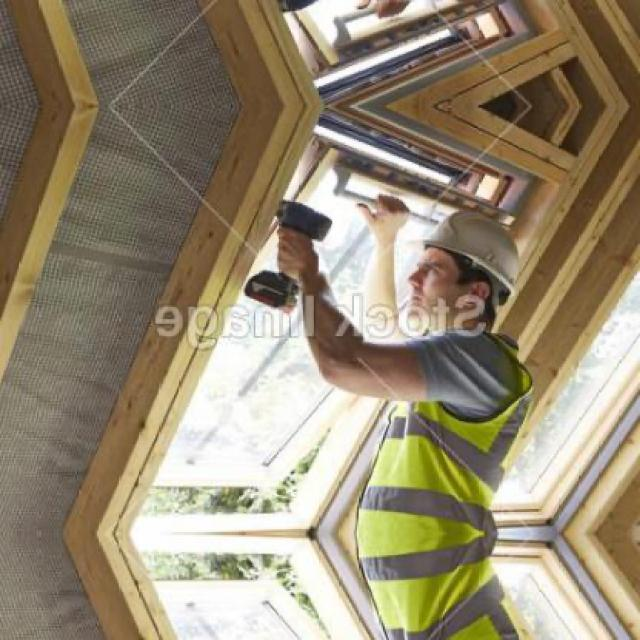helmet: (392, 190, 532, 344)
